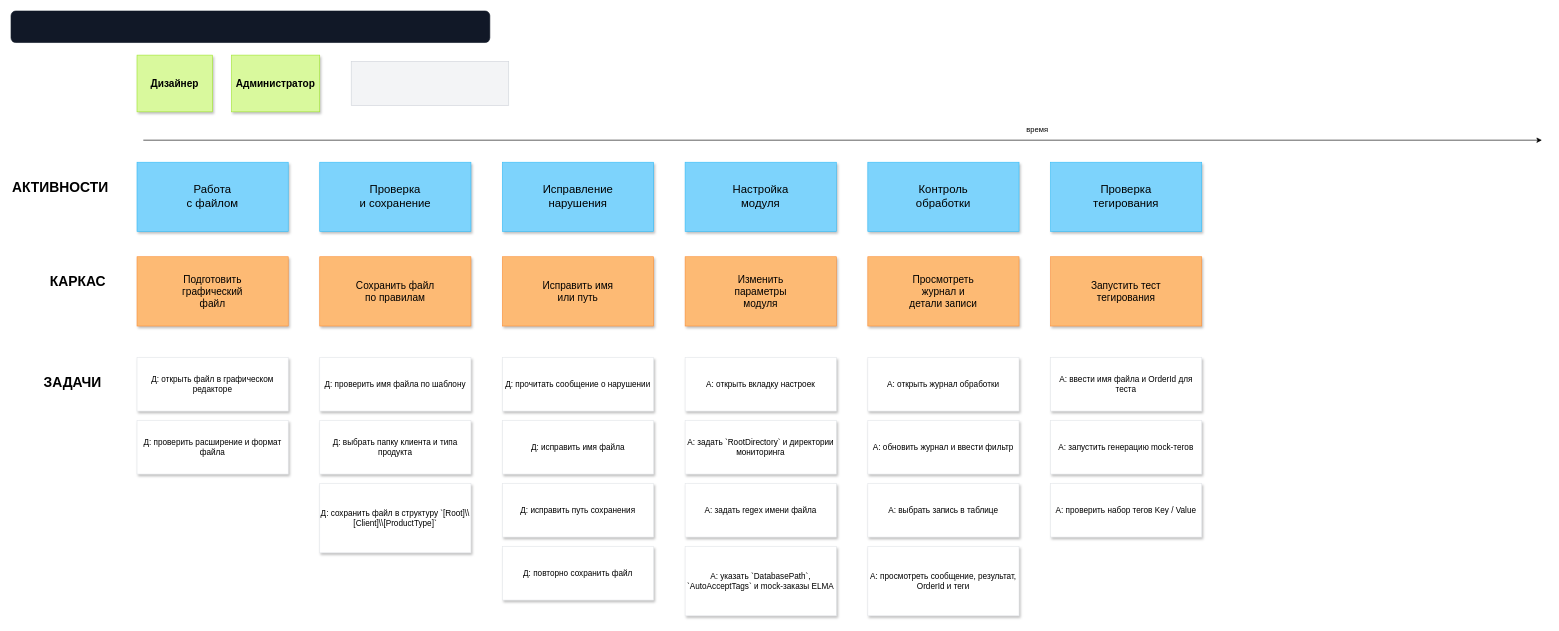
Some shapes in this 1559 by 631 pixel diagram are drawn without their labels. Each missing label, with the centre of its shape:
Д: действия дизайнера А: действия администратора: point (430, 83)
Карта пользовательских действий информационной системы MediaModule: point (250, 26)
